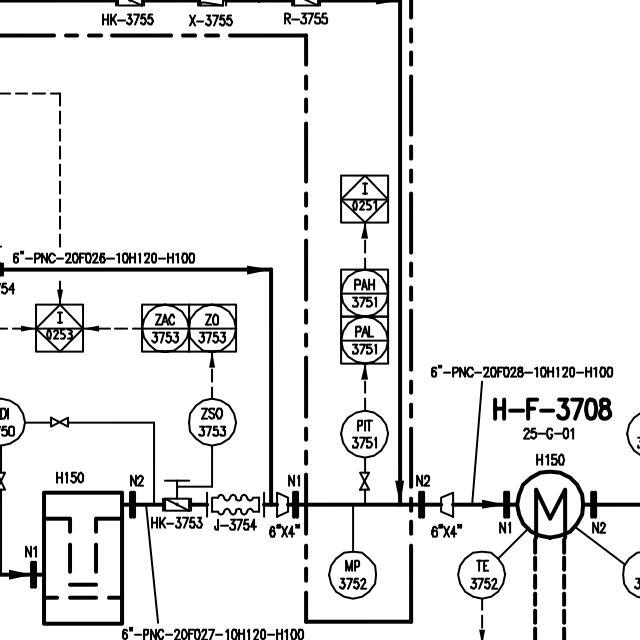BV: (161, 476, 195, 516)
EJ: (202, 488, 267, 520)
FT1: (38, 485, 127, 628)
GV: (47, 414, 70, 429), (359, 468, 372, 491)
HE: (515, 470, 583, 538)
SP: (438, 489, 457, 519), (275, 490, 290, 519)
